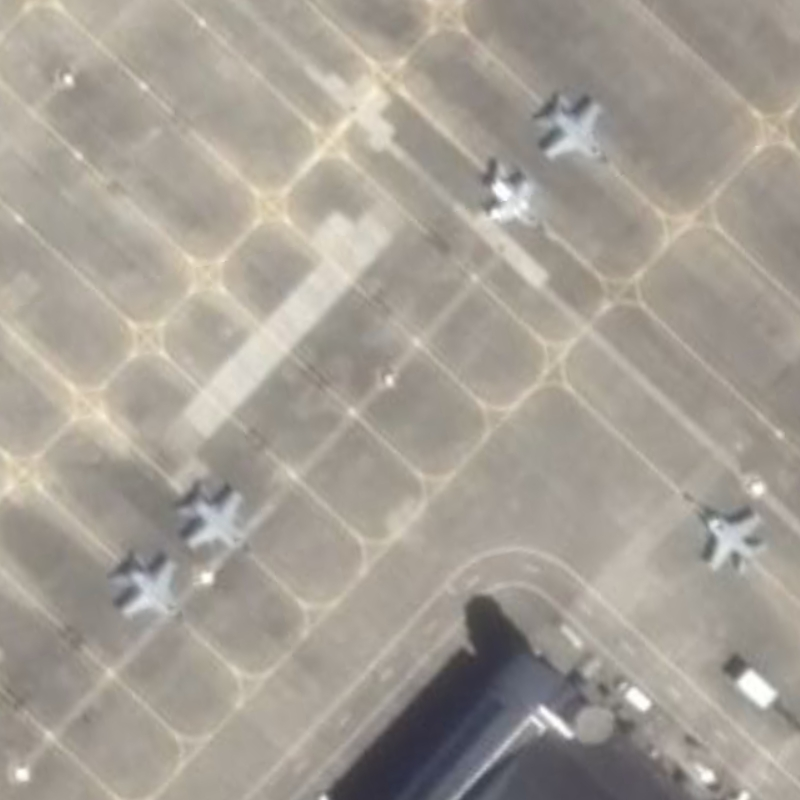A16: (672, 475, 776, 584), (99, 535, 201, 645), (171, 474, 267, 571), (532, 83, 621, 183)
